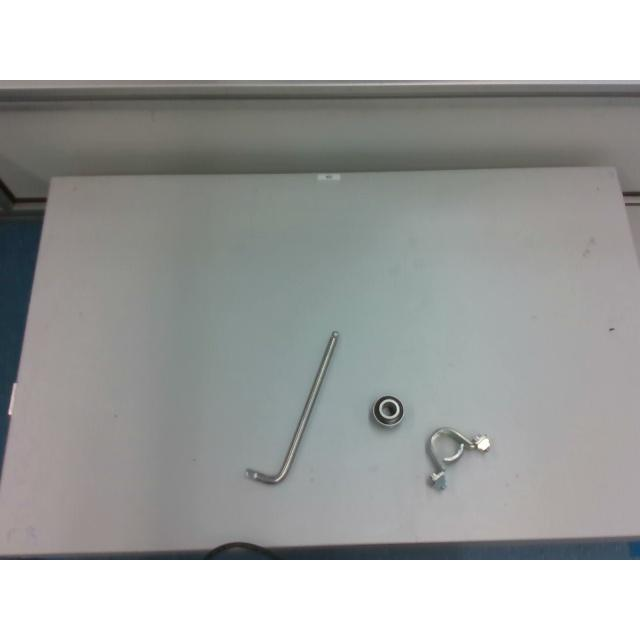AllenKey: (240, 330, 340, 486)
Bearing2: (370, 395, 402, 425)
Housing: (425, 426, 489, 486)
